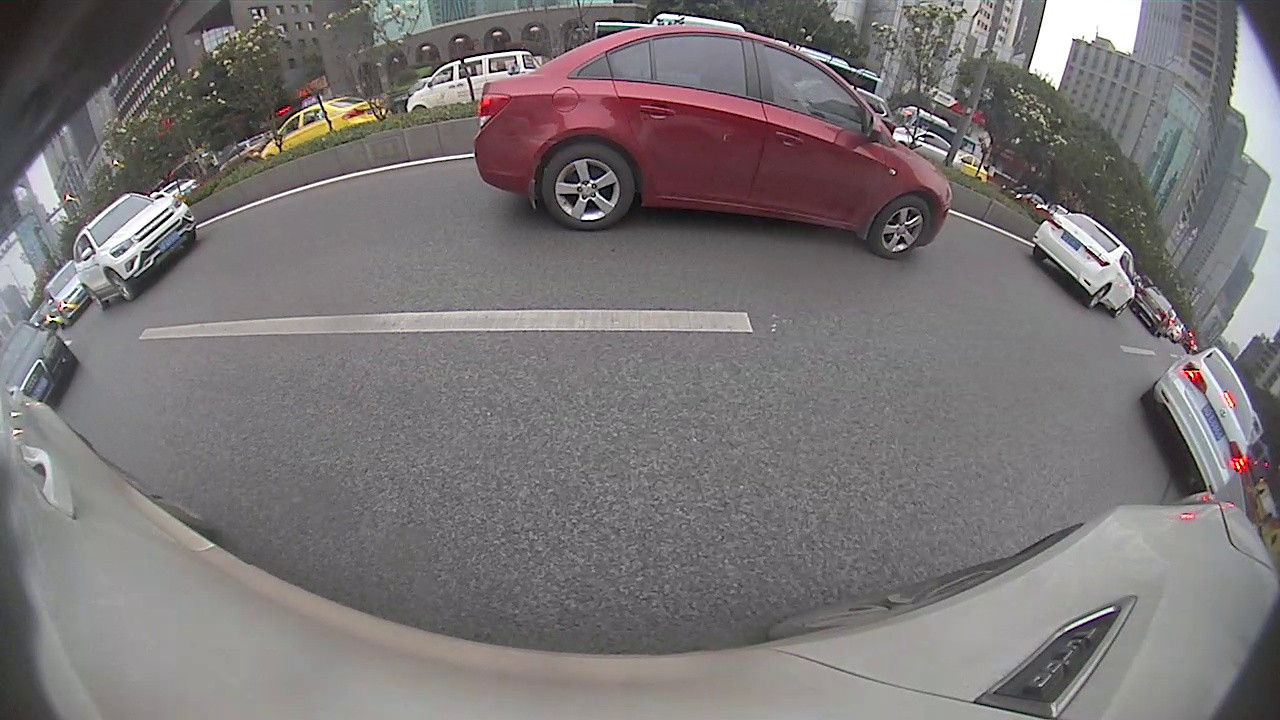car: (475, 23, 953, 262), (1140, 341, 1253, 493), (71, 191, 200, 310), (1031, 210, 1141, 317), (404, 49, 540, 113), (1, 318, 79, 406), (43, 260, 90, 326), (1133, 284, 1175, 338)
front: (544, 142, 635, 232), (871, 195, 932, 259), (106, 268, 135, 303)
rear: (1088, 285, 1108, 308)
